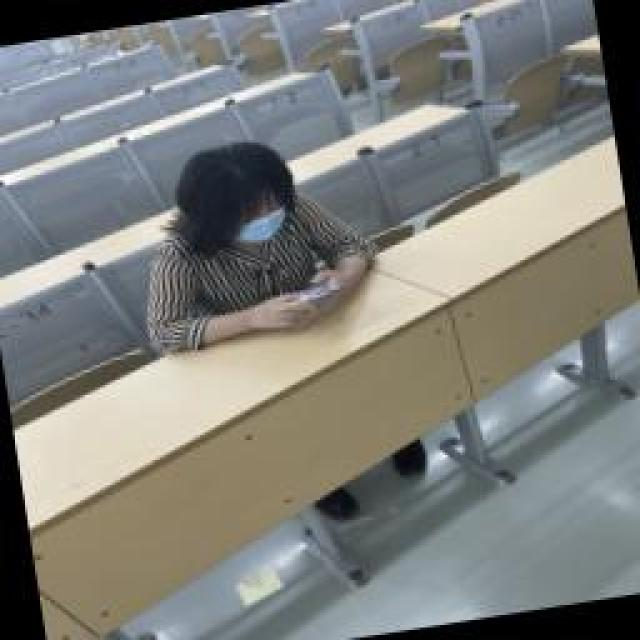phone: (120, 125, 388, 353)
